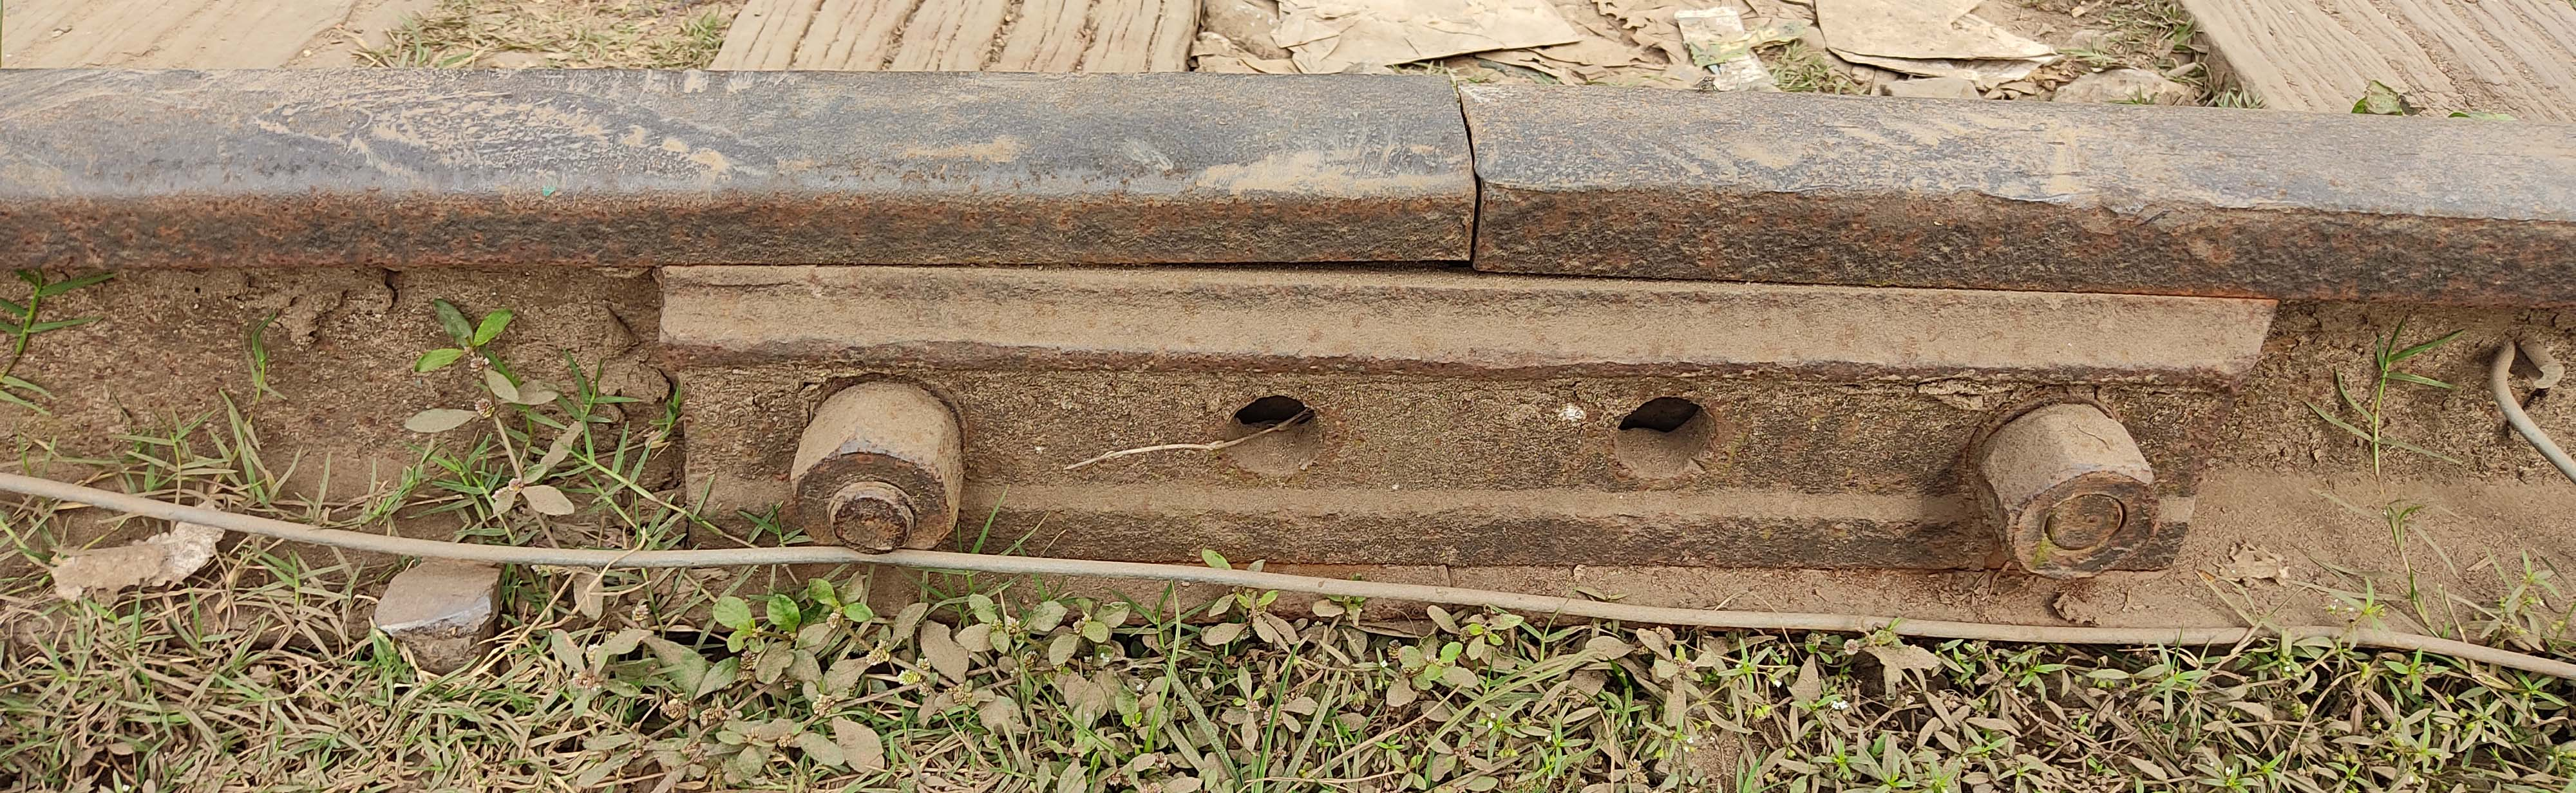error2: (1424, 25, 1528, 291)
